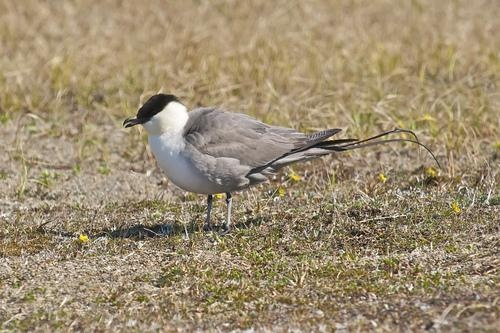bird: (116, 92, 436, 231)
